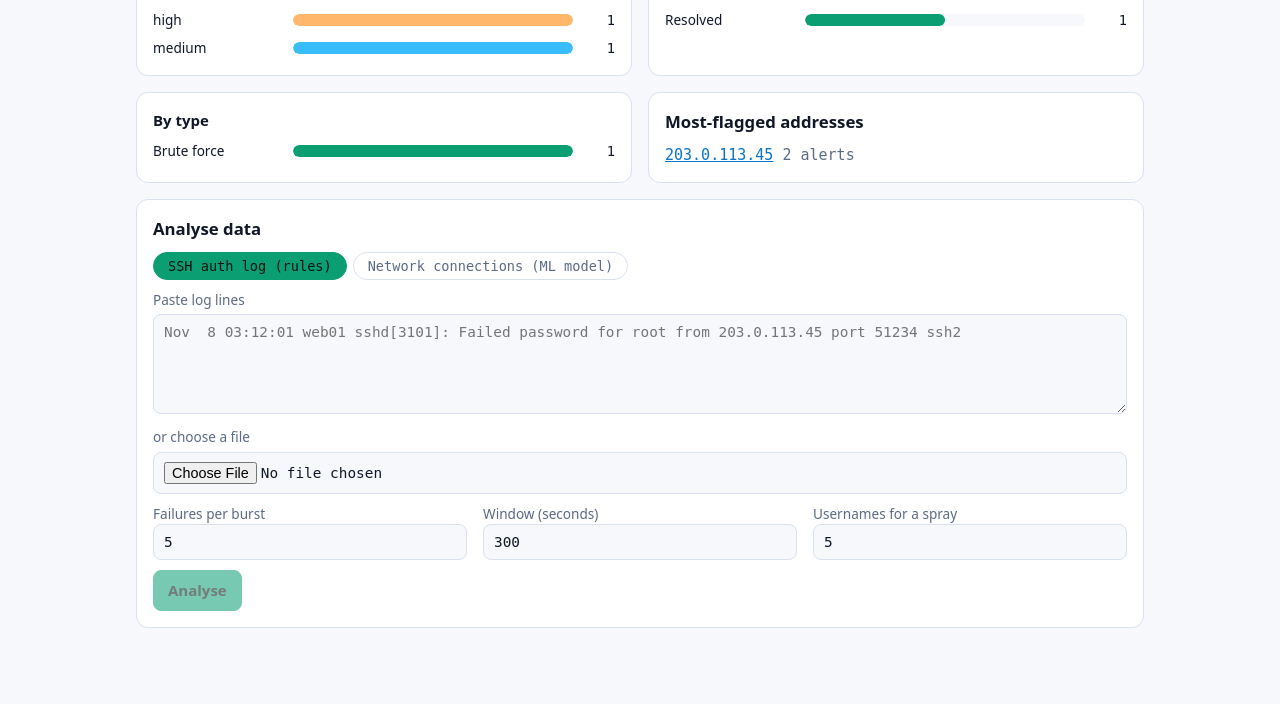
overview › lets an analyst upload a log and refreshes the totals
The image size is (1280, 704).
(page scrolled)
Type "Nov  8 03:12:01 web01 sshd[1]: Failed password for root from 1.2.3.4 port 1 ssh2" into the text box labelled "Paste log lines" at (640, 364), box [153,314,1127,414]
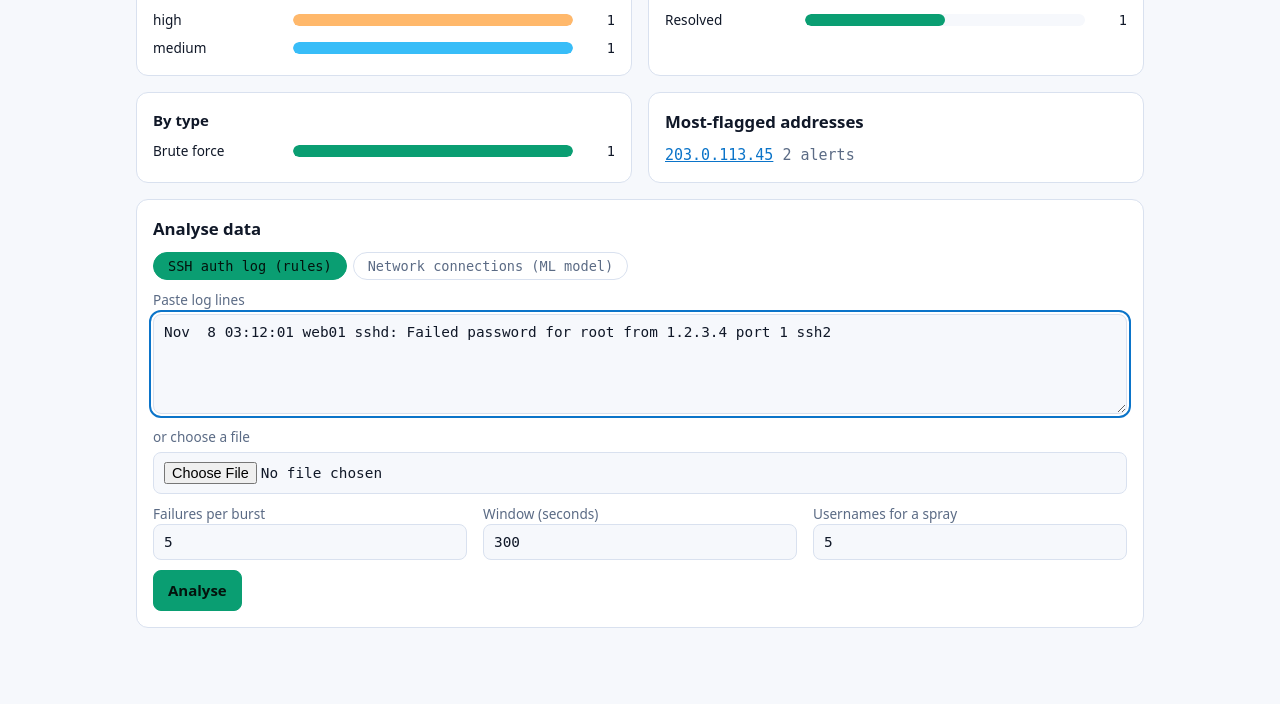
Click the button "Analyse" at (197, 590), box [153,570,242,611]
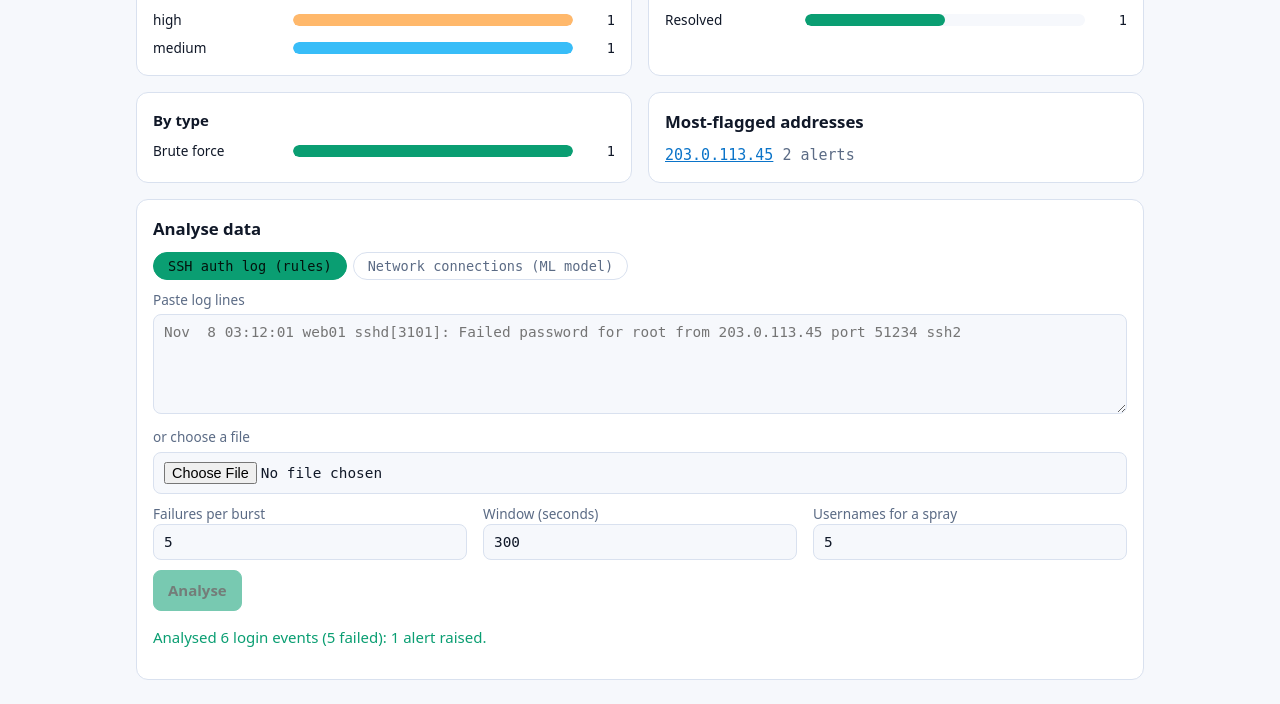
Now the message reads "Analysed 6 login events (5 failed): 1 alert raised.", box [153,627,486,647]
